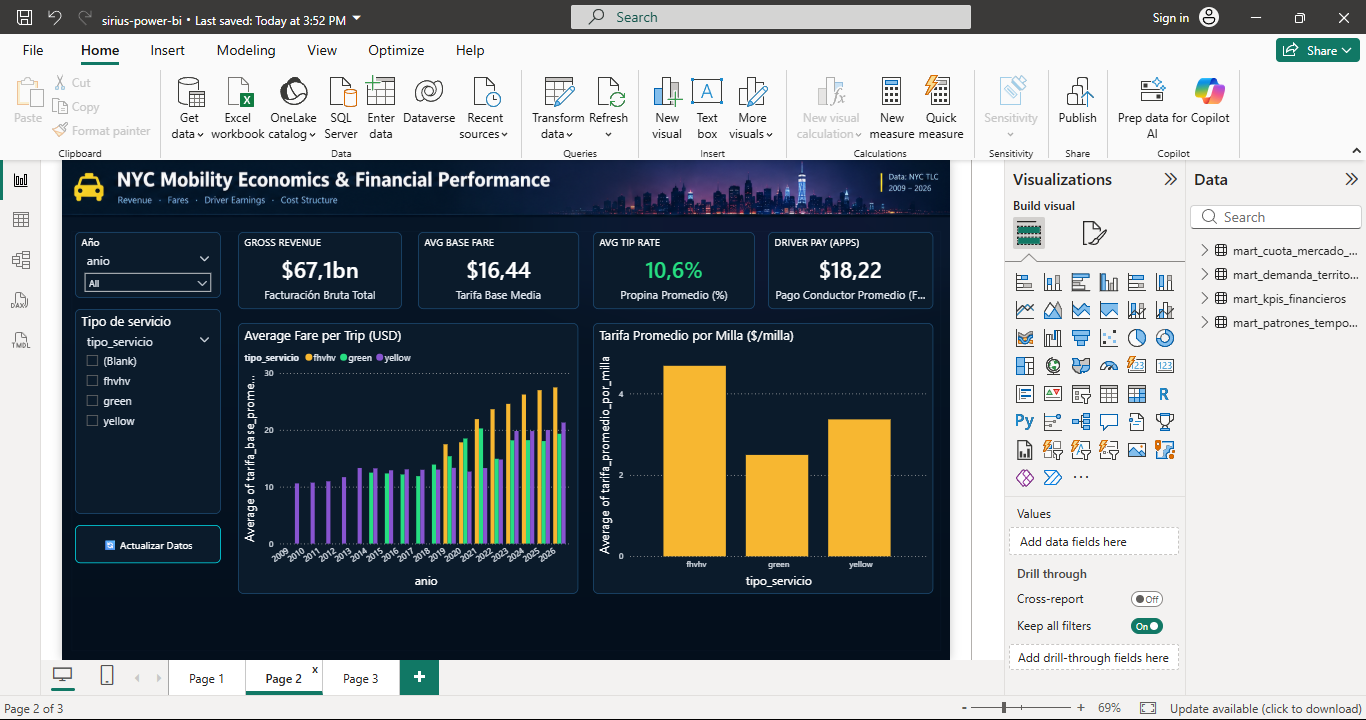

Layout of this report page (visuals, bound fields, positions):
{"tool":"powerbi","page":{"name":"Page 2","canvas":[1280,720],"ordinal":1},"visuals":[{"type":"card","title":"GROSS REVENUE","fields":{"Values":["mart_kpis_financieros.Facturación Bruta Total"]},"box":[253.4,103.7,236.2,110.9],"z":1},{"type":"card","title":"AVG BASE FARE","fields":{"Values":["mart_kpis_financieros.Tarifa Base Media"]},"box":[512.6,103.7,231.8,110.9],"z":1},{"type":"card","title":"AVG TIP RATE","fields":{"Values":["mart_kpis_financieros.Propina Promedio (%)"]},"box":[764.6,103.7,233.3,110.9],"z":1},{"type":"card","title":"DRIVER PAY (APPS)","fields":{"Values":["mart_kpis_financieros.Pago Conductor Promedio (FHVHV)"]},"box":[1016.6,103.7,237.6,110.9],"z":1},{"type":"slicer","title":"Año","fields":{"Values":["mart_kpis_financieros.anio"]},"box":[18,103.7,210,95],"z":5},{"type":"slicer","title":"Tipo de servicio","fields":{"Values":["mart_kpis_financieros.tipo_servicio"]},"box":[18,215,210,295],"z":5},{"type":"clusteredColumnChart","title":"Average Fare per Trip (USD)","fields":{"Category":["mart_kpis_financieros.anio"],"Series":["mart_kpis_financieros.tipo_servicio"],"Y":["Avg(mart_kpis_financieros.tarifa_base_promedio)"]},"box":[253.4,235,490,390],"z":10},{"type":"clusteredColumnChart","title":"Tarifa Promedio por Milla ($/milla)","fields":{"Category":["mart_kpis_financieros.tipo_servicio"],"Y":["Avg(mart_kpis_financieros.tarifa_promedio_por_milla)"]},"box":[764.6,235,490,390],"z":11},{"type":"actionButton","box":[18,525,210,55],"z":15}]}

Visuals, with their boxes on the page's 1280x720 design canvas (x1, y1, x2, y2). These are canvas units, not pixel positions in the 1366x720 screenshot, which may show the page scaled, cropped or inside an application window:
"GROSS REVENUE" card: [left=253, top=104, right=490, bottom=215]
"AVG BASE FARE" card: [left=513, top=104, right=744, bottom=215]
"AVG TIP RATE" card: [left=765, top=104, right=998, bottom=215]
"DRIVER PAY (APPS)" card: [left=1017, top=104, right=1254, bottom=215]
"Año" slicer: [left=18, top=104, right=228, bottom=199]
"Tipo de servicio" slicer: [left=18, top=215, right=228, bottom=510]
"Average Fare per Trip (USD)" clusteredColumnChart: [left=253, top=235, right=743, bottom=625]
"Tarifa Promedio por Milla ($/milla)" clusteredColumnChart: [left=765, top=235, right=1255, bottom=625]
actionButton: [left=18, top=525, right=228, bottom=580]
